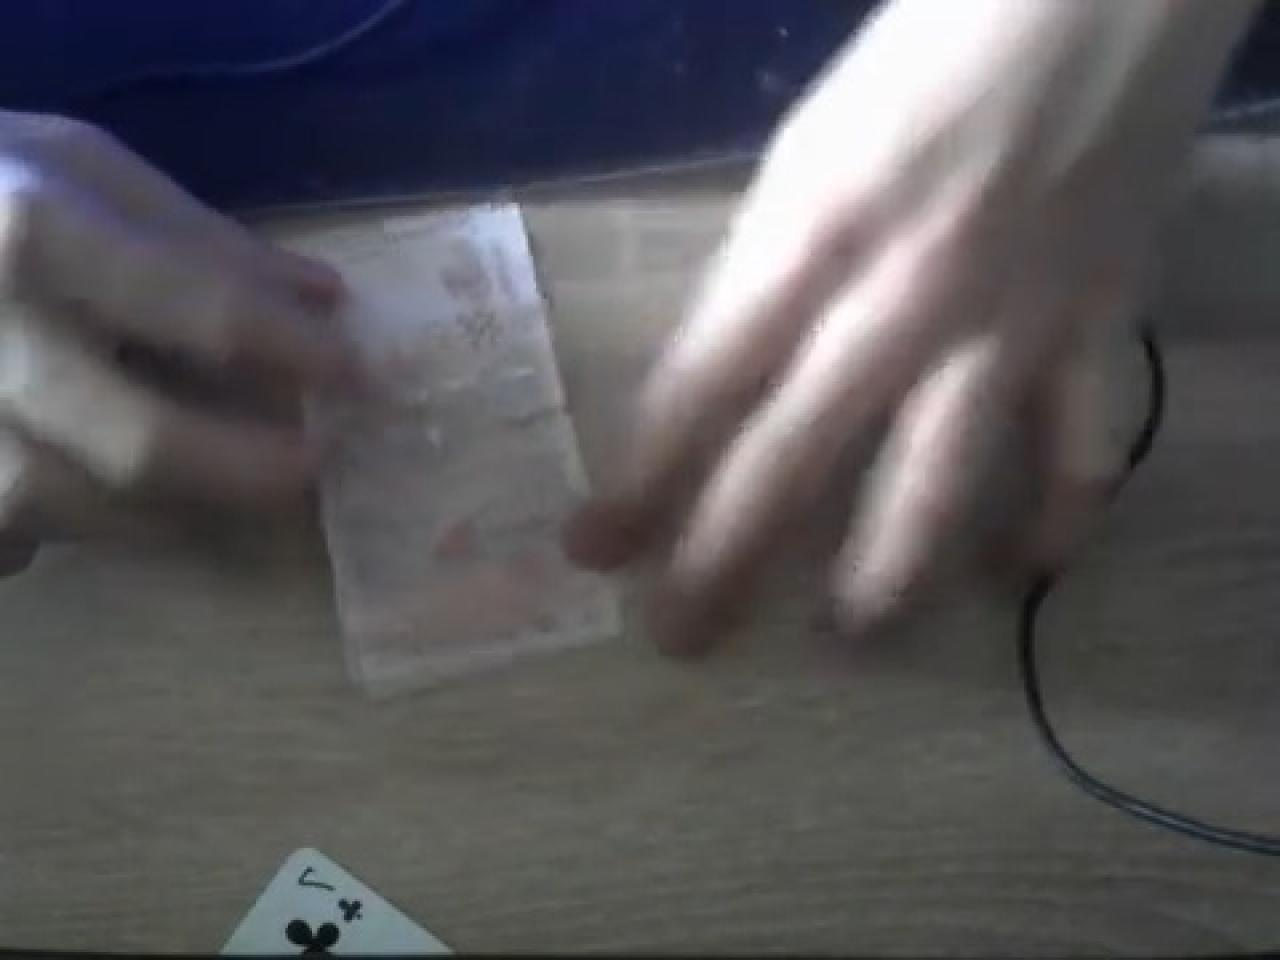5leva: (256, 198, 619, 701)
